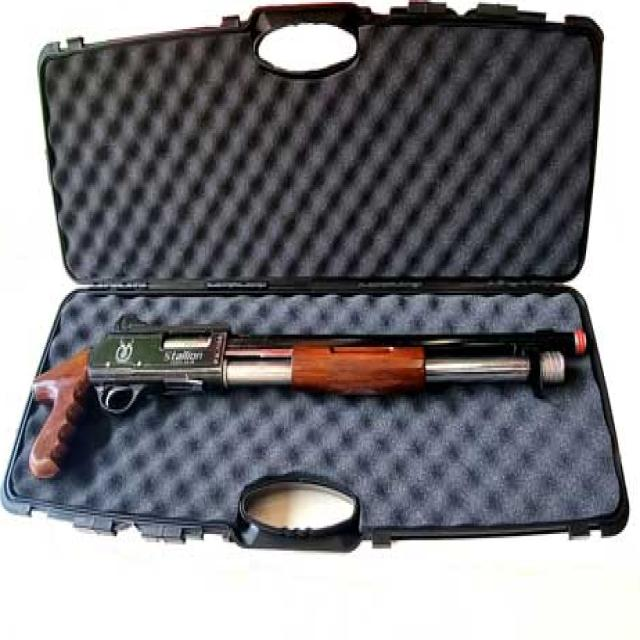Weapon: (29, 318, 589, 478)
